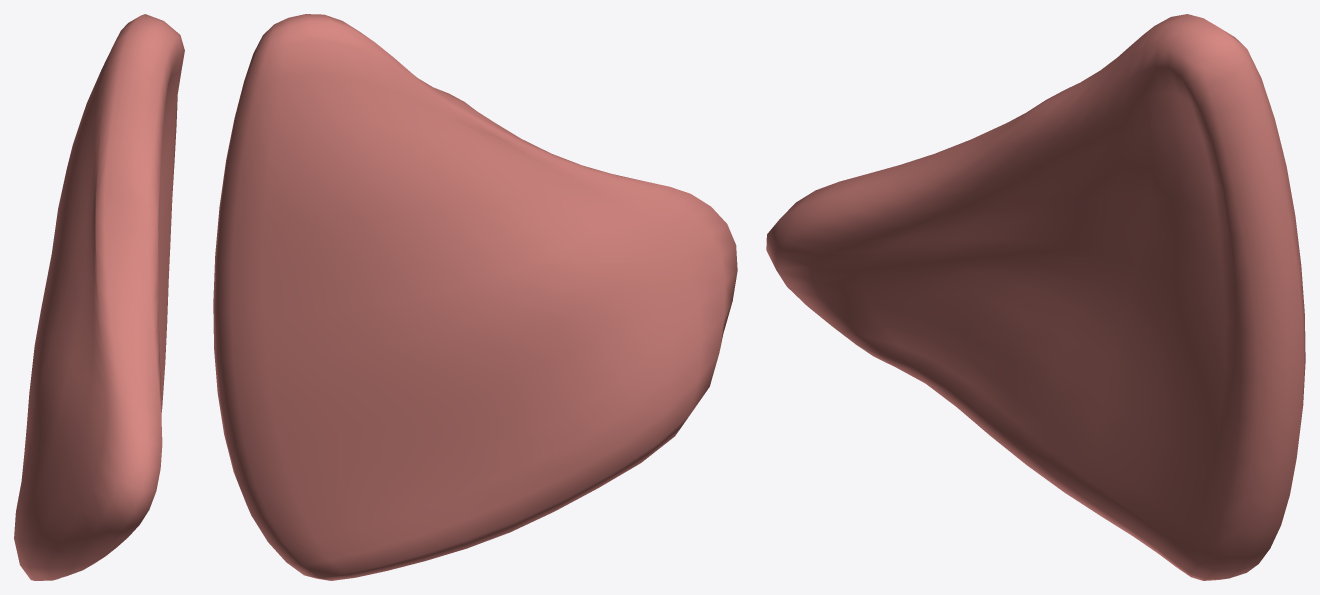
3 renders of one model, left to right at view 1: azimuth 30°, elevation 25°; view 2: azimuth 150°, elevation 25°; view 3: azimuth 270°, elevation 25°, orthographic. The views are drawn at different scales.
Visible parts, largest first — view 1: ZA_529a086c87769853; view 2: ZA_529a086c87769853; view 3: ZA_529a086c87769853.
Part boxes in pixels (left/top/right/bottom): ZA_529a086c87769853: left=14, top=14, right=184, bottom=580; ZA_529a086c87769853: left=213, top=14, right=737, bottom=580; ZA_529a086c87769853: left=766, top=14, right=1305, bottom=580.
Size of the model in its own units: 0.0101 by 0.0167 by 0.0144.
